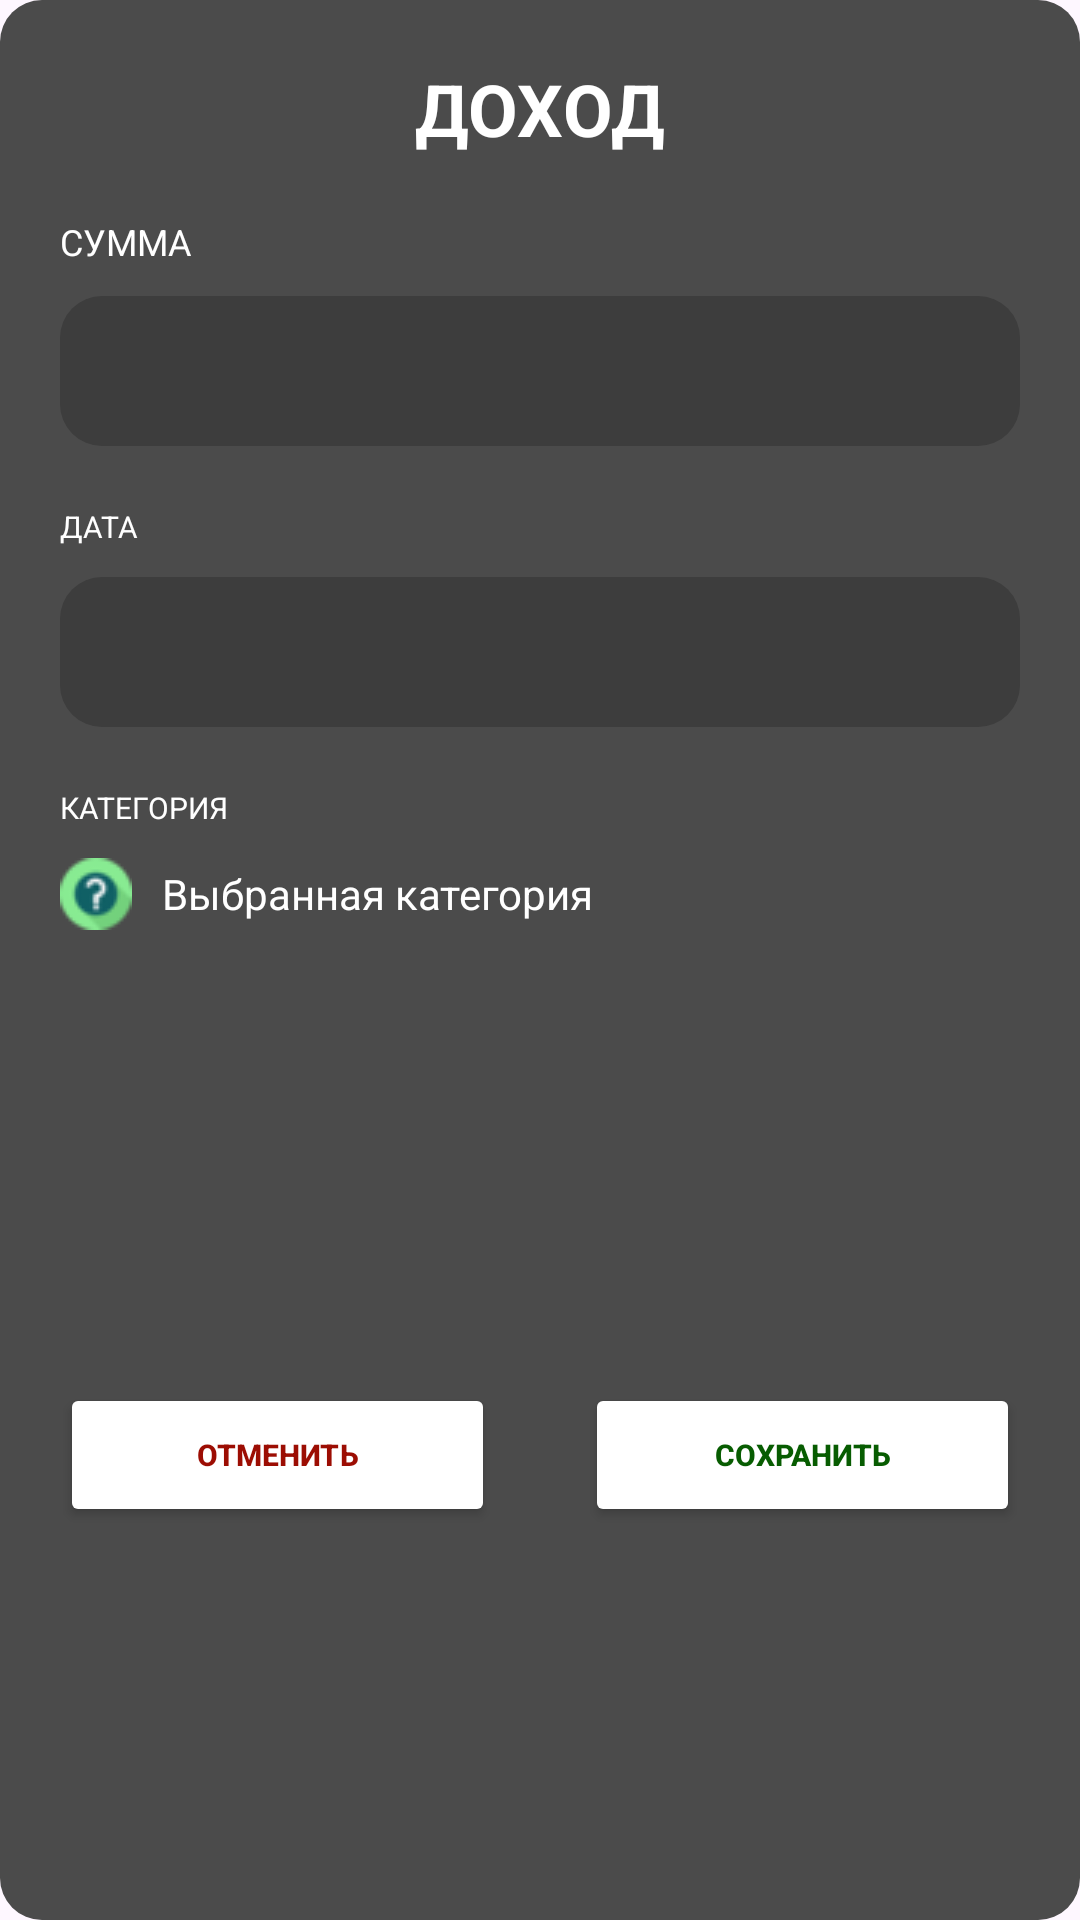

Locate icon controls on the screen. Image size 1080px x 1920px, boxes as (x1, y1, x2, y2).
question mark: (60, 858, 132, 930)
